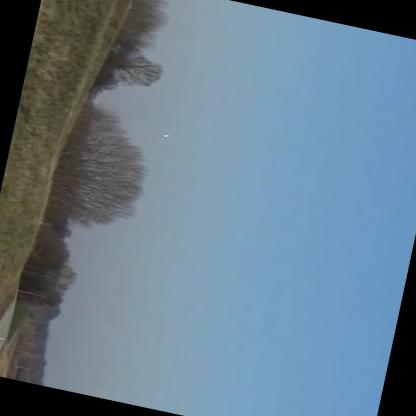plane: (153, 128, 173, 142)
